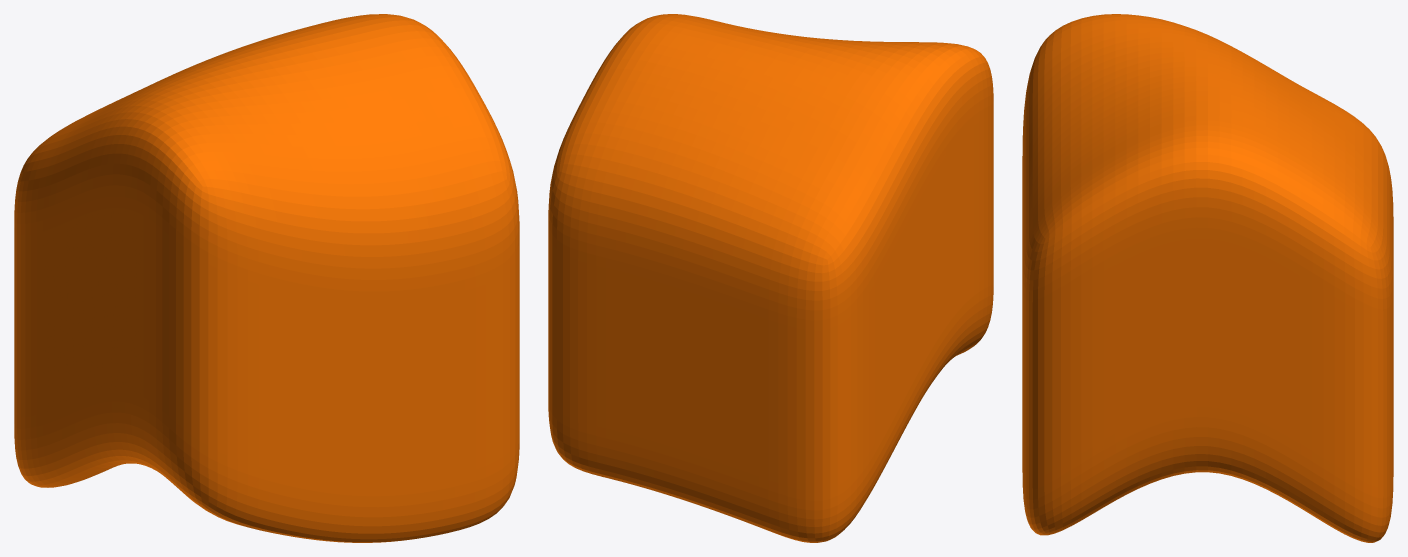
3 views of the same model, side by side, from view 1: azimuth 30°, elevation 25°; view 2: azimuth 150°, elevation 25°; view 3: azimuth 270°, elevation 25° (orthographic). The views are drawn at different scales.
Visible parts, largest first — view 1: smooth_1_base.027; view 2: smooth_1_base.027; view 3: smooth_1_base.027.
Boxes of the visible parts, box(x1,y1,x2,y2) form: smooth_1_base.027: box(14, 14, 519, 542); smooth_1_base.027: box(548, 14, 993, 542); smooth_1_base.027: box(1022, 14, 1393, 542).
Size of the model in its own units: 60 by 76.21 by 60.
